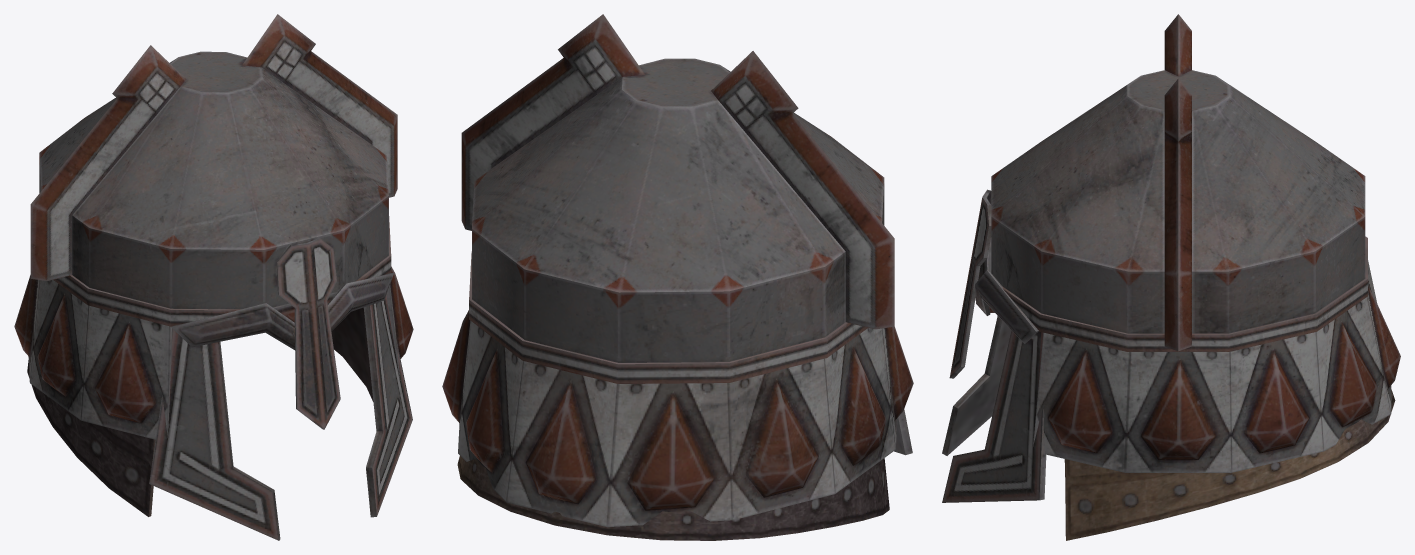
File: sk_dwarf_iron_helmet_heavy_c2.fbx
3 views of the same model, side by side, from view 1: azimuth 30°, elevation 25°; view 2: azimuth 150°, elevation 25°; view 3: azimuth 270°, elevation 25° (orthographic). The views are drawn at different scales.
Visible parts, largest first — view 1: sk_dwarf_iron_helmet_heavy_c2.0, sk_dwarf_iron_helmet_heavy_c2.1; view 2: sk_dwarf_iron_helmet_heavy_c2.0, sk_dwarf_iron_helmet_heavy_c2.1; view 3: sk_dwarf_iron_helmet_heavy_c2.0, sk_dwarf_iron_helmet_heavy_c2.1.
Part boxes in pixels (x1,y1,x2,y2): sk_dwarf_iron_helmet_heavy_c2.0: (30,14,412,540); sk_dwarf_iron_helmet_heavy_c2.1: (14,266,413,516); sk_dwarf_iron_helmet_heavy_c2.0: (461,14,912,455); sk_dwarf_iron_helmet_heavy_c2.1: (442,310,913,540); sk_dwarf_iron_helmet_heavy_c2.0: (942,14,1367,502); sk_dwarf_iron_helmet_heavy_c2.1: (1033,260,1400,540).
Size of the model in its own units: 0.3211 by 0.3351 by 0.3488.
